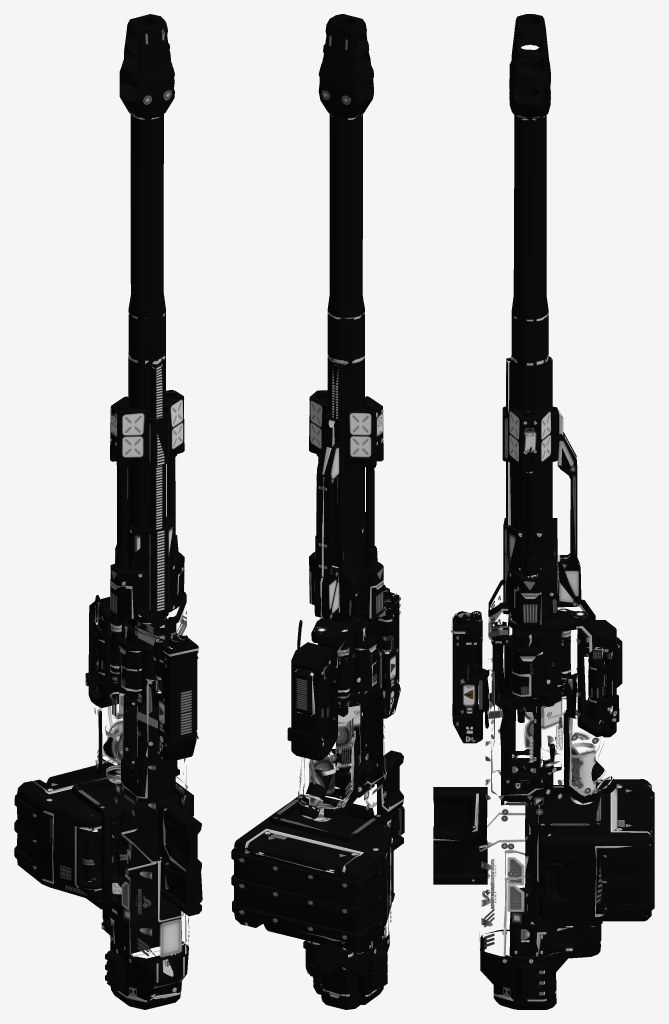
File: 10-series-greatsword-cannon.glb
3 views of the same model, side by side, from view 1: azimuth 30°, elevation 25°; view 2: azimuth 150°, elevation 25°; view 3: azimuth 270°, elevation 25° (orthographic).
Visible parts, largest first — view 1: power_array, core; view 2: power_array, core; view 3: power_array, core.
Part boxes in pixels (x1=…): power_array: x1=14, y1=14, x2=201, y2=1009; core: x1=98, y1=390, x2=202, y2=1009; power_array: x1=231, y1=14, x2=403, y2=1004; core: x1=309, y1=390, x2=404, y2=1009; power_array: x1=433, y1=14, x2=654, y2=1009; core: x1=433, y1=406, x2=603, y2=1009.
Size of the model in its own units: 0.3713 by 2.63 by 0.5374.
Materials: 7 (5 with a texture image).
